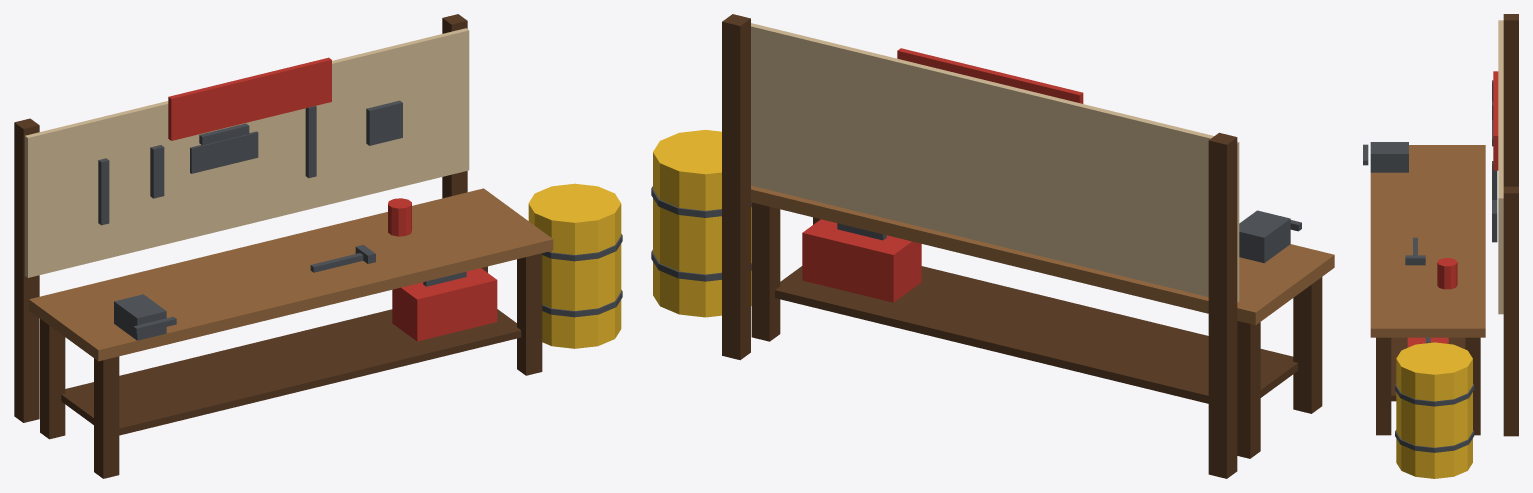
The model's file is workbench.glb.
3 renders of one model, left to right at view 1: azimuth 30°, elevation 25°; view 2: azimuth 150°, elevation 25°; view 3: azimuth 270°, elevation 25°, orthographic. The views are drawn at different scales.
Visible parts, largest first — view 1: board_panel, bench_top, bench_shelf, drum, bench_legs, board_sign, board_posts, board_tools, toolbox, vice, drum_bands, can (+1 smaller); view 2: board_panel, bench_shelf, board_posts, bench_top, drum, bench_legs, toolbox, vice, board_sign, drum_bands; view 3: bench_top, drum, board_posts, bench_legs, board_panel, vice, drum_bands, bench_shelf, can, board_sign, board_tools, hammer (+1 smaller).
Boxes of the visible parts, <box> form: board_panel: <box>25,28,469,277</box>; bench_top: <box>29,188,553,361</box>; bench_shelf: <box>61,309,521,435</box>; drum: <box>528,183,621,348</box>; bench_legs: <box>40,253,542,478</box>; board_sign: <box>168,57,331,140</box>; board_posts: <box>14,14,467,422</box>; board_tools: <box>98,100,402,225</box>; toolbox: <box>392,268,497,341</box>; vice: <box>114,294,176,340</box>; drum_bands: <box>542,234,622,317</box>; can: <box>388,198,411,236</box>; board_panel: <box>751,23,1239,302</box>; bench_shelf: <box>775,266,1297,403</box>; board_posts: <box>722,14,1237,478</box>; bench_top: <box>751,185,1334,325</box>; drum: <box>653,129,751,317</box>; bench_legs: <box>751,202,1322,458</box>; toolbox: <box>802,219,921,302</box>; vice: <box>1239,210,1301,263</box>; board_sign: <box>897,48,1083,103</box>; drum_bands: <box>651,186,751,281</box>; bench_top: <box>1370,145,1485,337</box>; drum: <box>1396,342,1472,478</box>; board_posts: <box>1503,14,1518,436</box>; bench_legs: <box>1376,337,1480,435</box>; board_panel: <box>1498,20,1503,314</box>; vice: <box>1363,142,1408,172</box>; drum_bands: <box>1395,383,1474,452</box>; bench_shelf: <box>1391,337,1465,401</box>; can: <box>1437,258,1457,289</box>; board_sign: <box>1493,71,1498,170</box>; board_tools: <box>1492,80,1497,242</box>; hammer: <box>1405,237,1425,265</box>.
Size of the model in its own units: 4.16 by 2.1 by 1.22.
